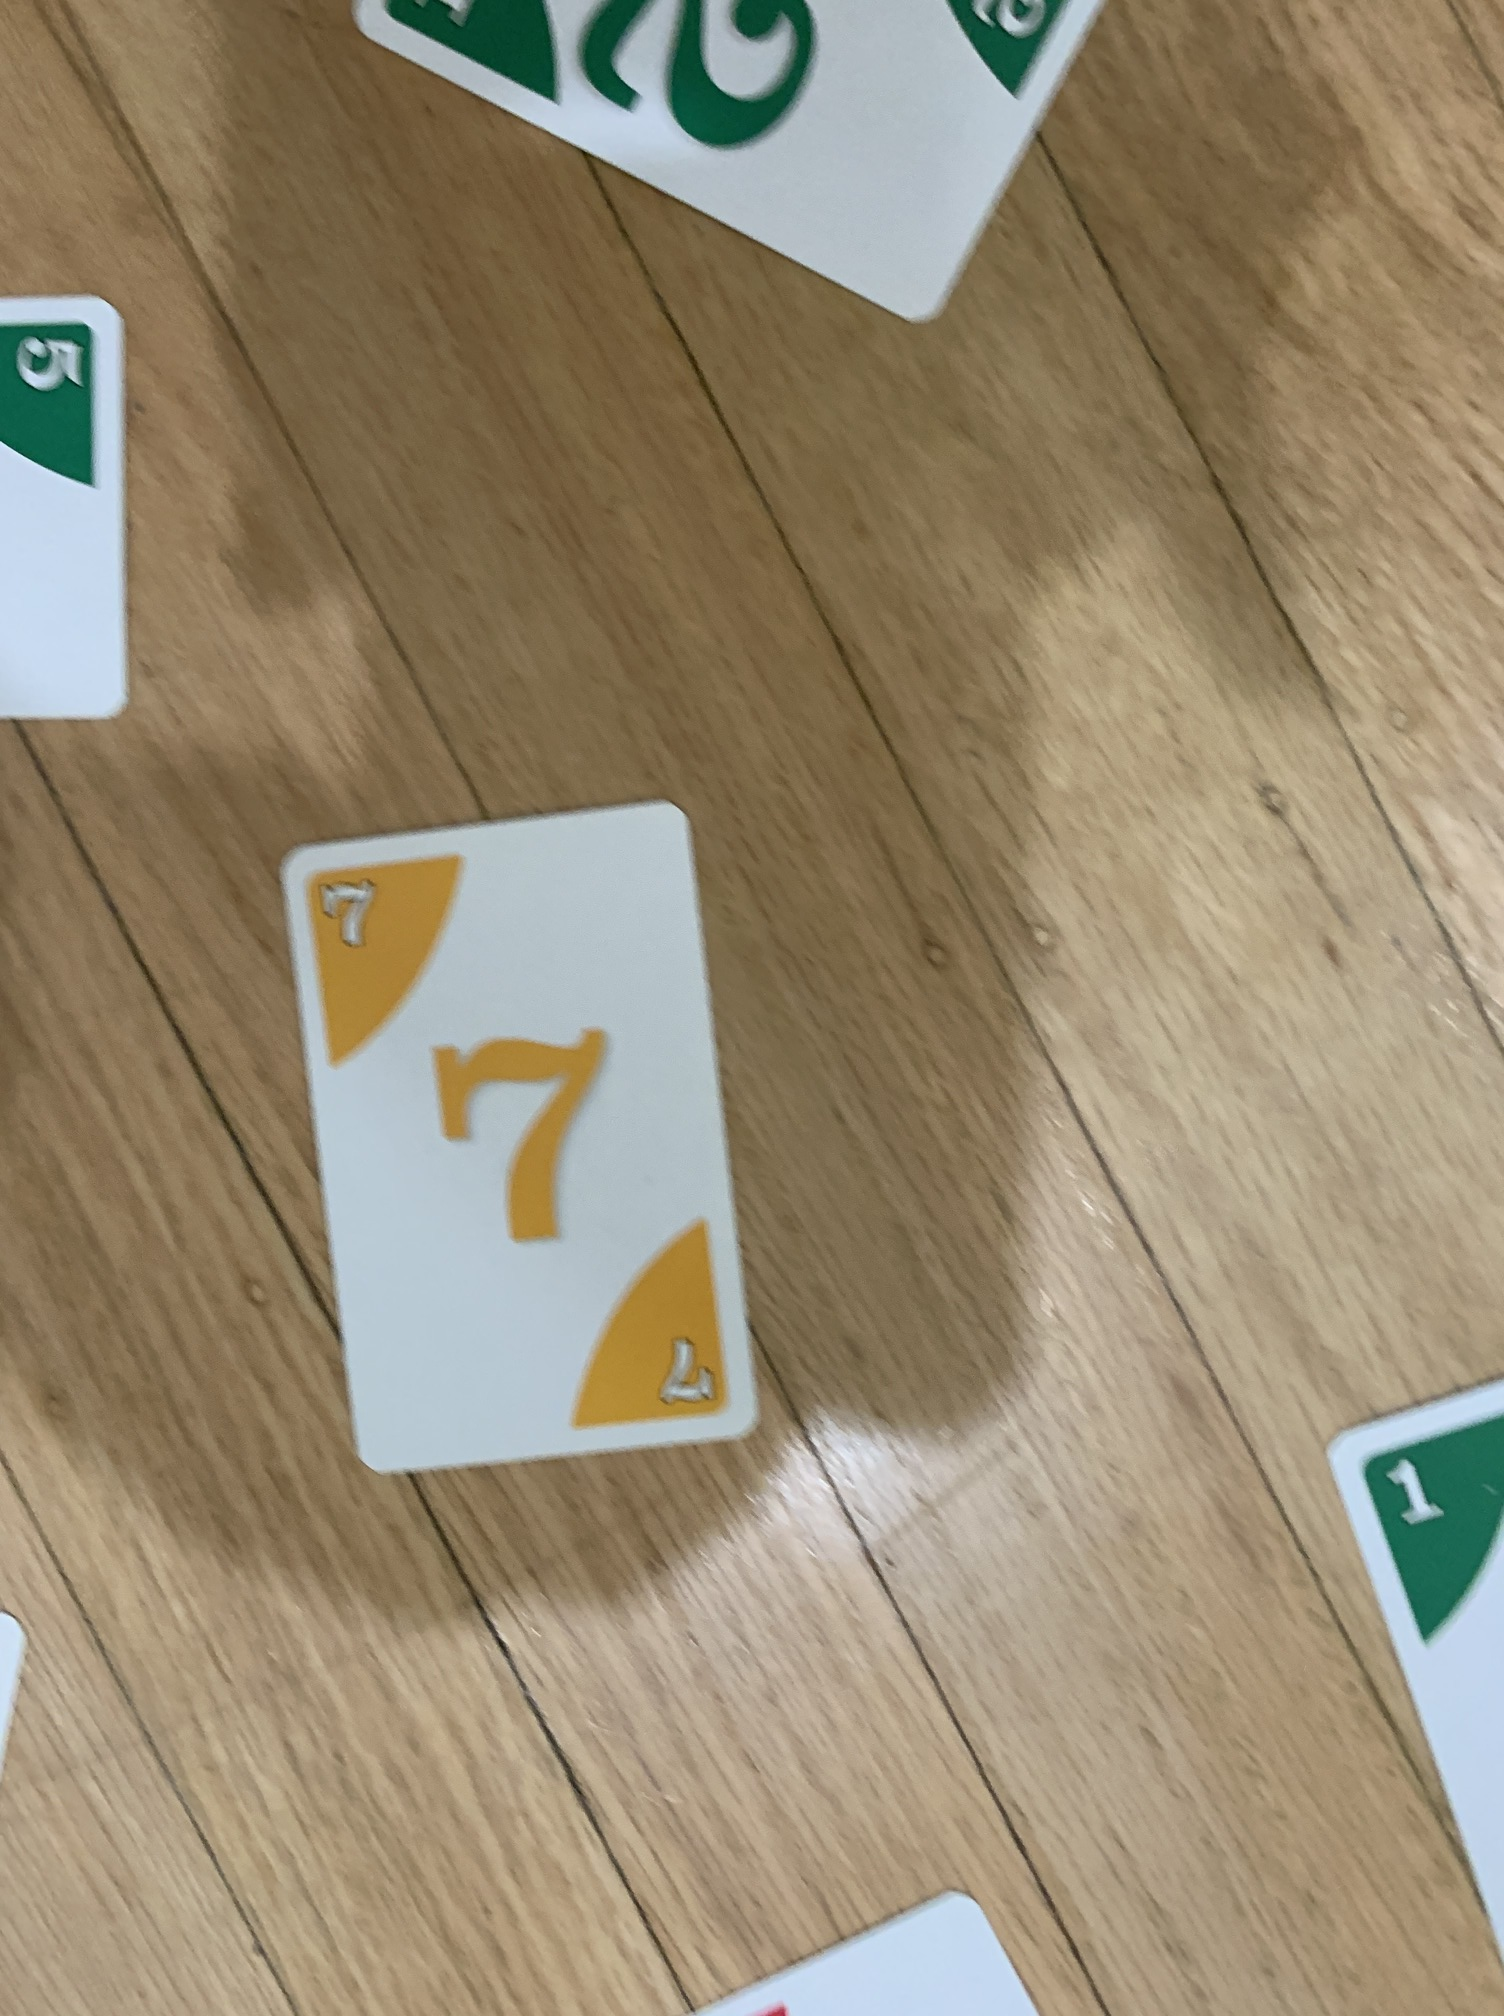seven: (269, 788, 780, 1488)
